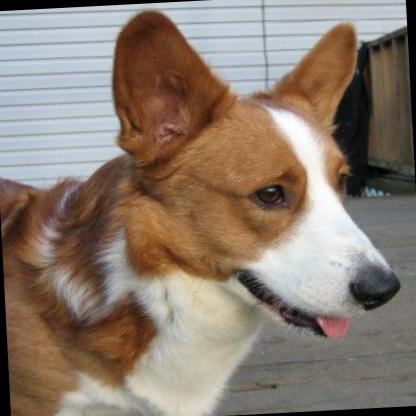Cardigan: (0, 0, 398, 416)
